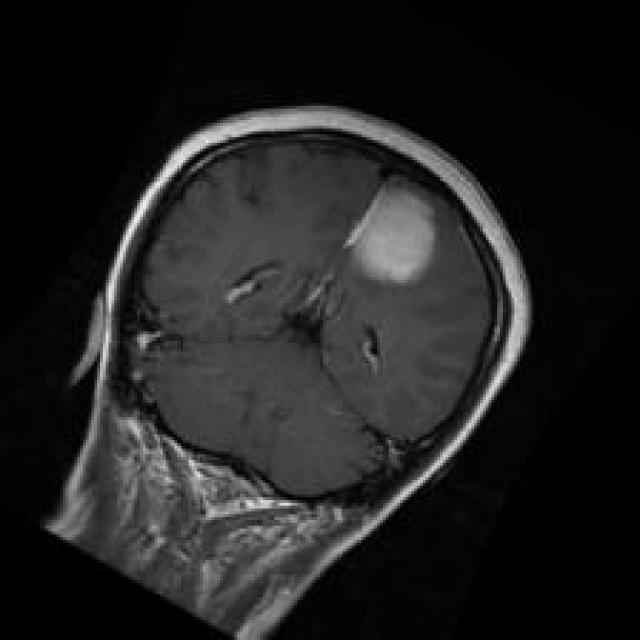meningioma_tumor: (338, 165, 454, 297)
